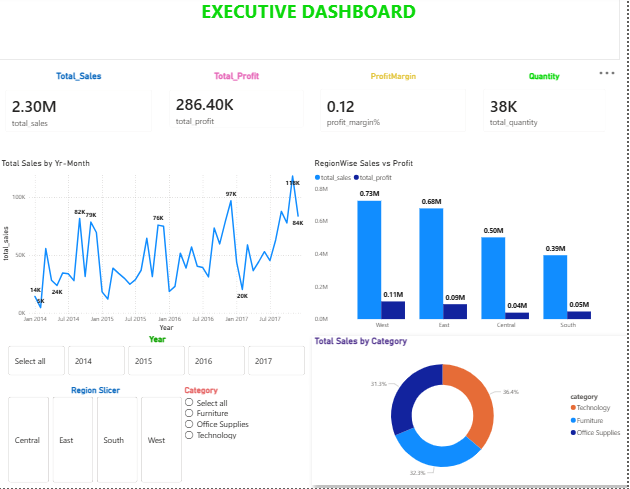

The page's visual inventory and layout, read from the dashboard file:
{"tool":"powerbi","page":{"name":"Executive_Overview","canvas":[1280,1000],"ordinal":0},"visuals":[{"type":"cardVisual","title":"Total_Sales","fields":{"Data":["Fact_Sales.total_sales"]},"box":[0,152.9,332.6,141.1],"z":0},{"type":"cardVisual","title":"Total_Profit","fields":{"Data":["Fact_Sales.total_profit"]},"box":[332.6,152.9,307.4,132.7],"z":1000},{"type":"cardVisual","title":"ProfitMargin","fields":{"Data":["Fact_Sales.profit_margin%"]},"box":[640,152.9,330.9,141.1],"z":2000},{"type":"cardVisual","title":"Quantity","fields":{"Data":["Fact_Sales.total_quantity"]},"box":[970.9,152.9,282.2,141.1],"z":3000},{"type":"lineChart","title":"Total Sales by Yr-Month","fields":{"Category":["DimDate.Date.Variation.Date Hierarchy.Year","DimDate.Date.Variation.Date Hierarchy.Month"],"Y":["Fact_Sales.total_sales"]},"box":[5,329.2,635,357.8],"z":4000},{"type":"clusteredColumnChart","title":"RegionWise Sales vs Profit","fields":{"Y":["Fact_Sales.total_sales","Fact_Sales.total_profit"],"Category":["DimRegion.region"]},"box":[640,329.2,626.6,357.8],"z":5000},{"type":"textbox","box":[0,0,1266.6,129.3],"z":6000},{"type":"donutChart","title":"Total Sales by Category","fields":{"Y":["Fact_Sales.total_sales"],"Category":["DimProduct.category"]},"box":[640.2,691.1,640.2,302.8],"z":7000},{"type":"advancedSlicerVisual","fields":{"Values":["DimDate.Year"]},"box":[18.3,687,615.9,89.4],"z":8000},{"type":"advancedSlicerVisual","title":"Region Slicer","fields":{"Values":["DimRegion.region"]},"box":[18.3,790.7,363.8,203.3],"z":9000},{"type":"listSlicer","title":"Category","fields":{"Values":["DimProduct.category"]},"box":[376,790.7,258.1,209.3],"z":10000}]}

Visuals, with their boxes in screenshot pixels (x1, y1, x2, y2), scaled from the page's 1280x1000 canvas onto the 630x489 screenshot:
"Total_Sales" cardVisual: rect(0, 75, 164, 144)
"Total_Profit" cardVisual: rect(164, 75, 315, 140)
"ProfitMargin" cardVisual: rect(315, 75, 478, 144)
"Quantity" cardVisual: rect(478, 75, 617, 144)
"Total Sales by Yr-Month" lineChart: rect(2, 161, 315, 336)
"RegionWise Sales vs Profit" clusteredColumnChart: rect(315, 161, 623, 336)
textbox: rect(0, 0, 623, 63)
"Total Sales by Category" donutChart: rect(315, 338, 629, 486)
advancedSlicerVisual - DimDate.Year: rect(9, 336, 312, 380)
"Region Slicer" advancedSlicerVisual: rect(9, 387, 188, 486)
"Category" listSlicer: rect(185, 387, 312, 488)
